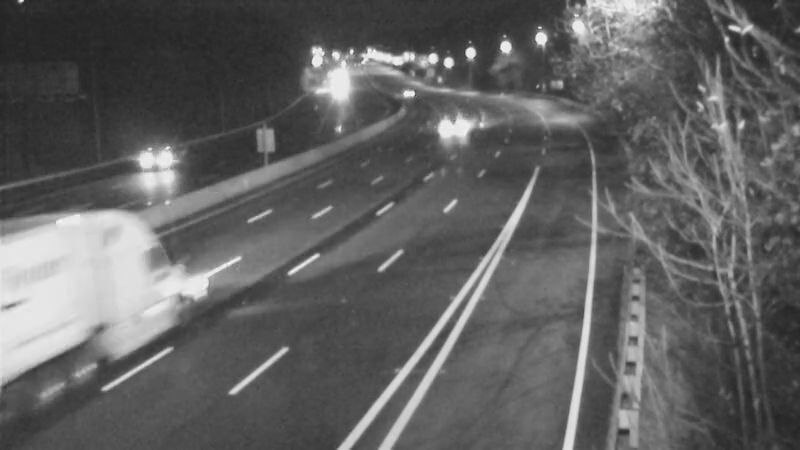vehicle: (49, 250, 129, 330), (131, 114, 211, 194), (380, 73, 430, 123), (434, 96, 484, 146), (314, 65, 364, 115)
